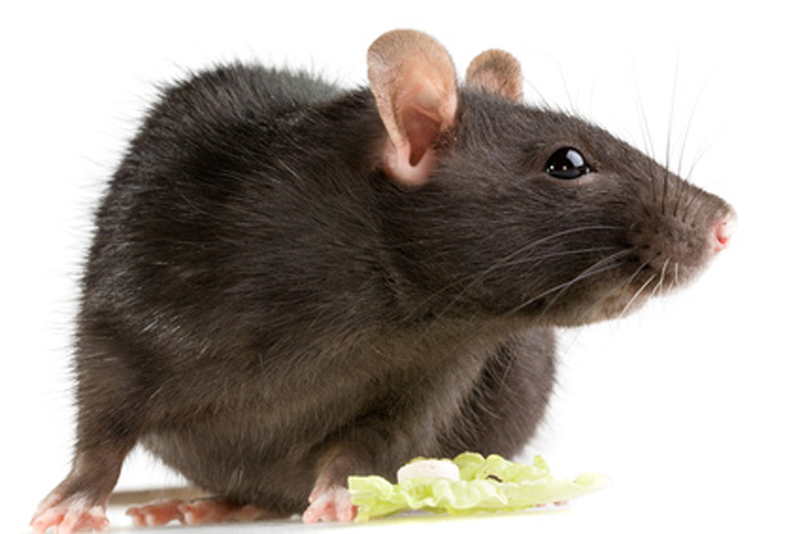rat: (16, 18, 744, 534)
